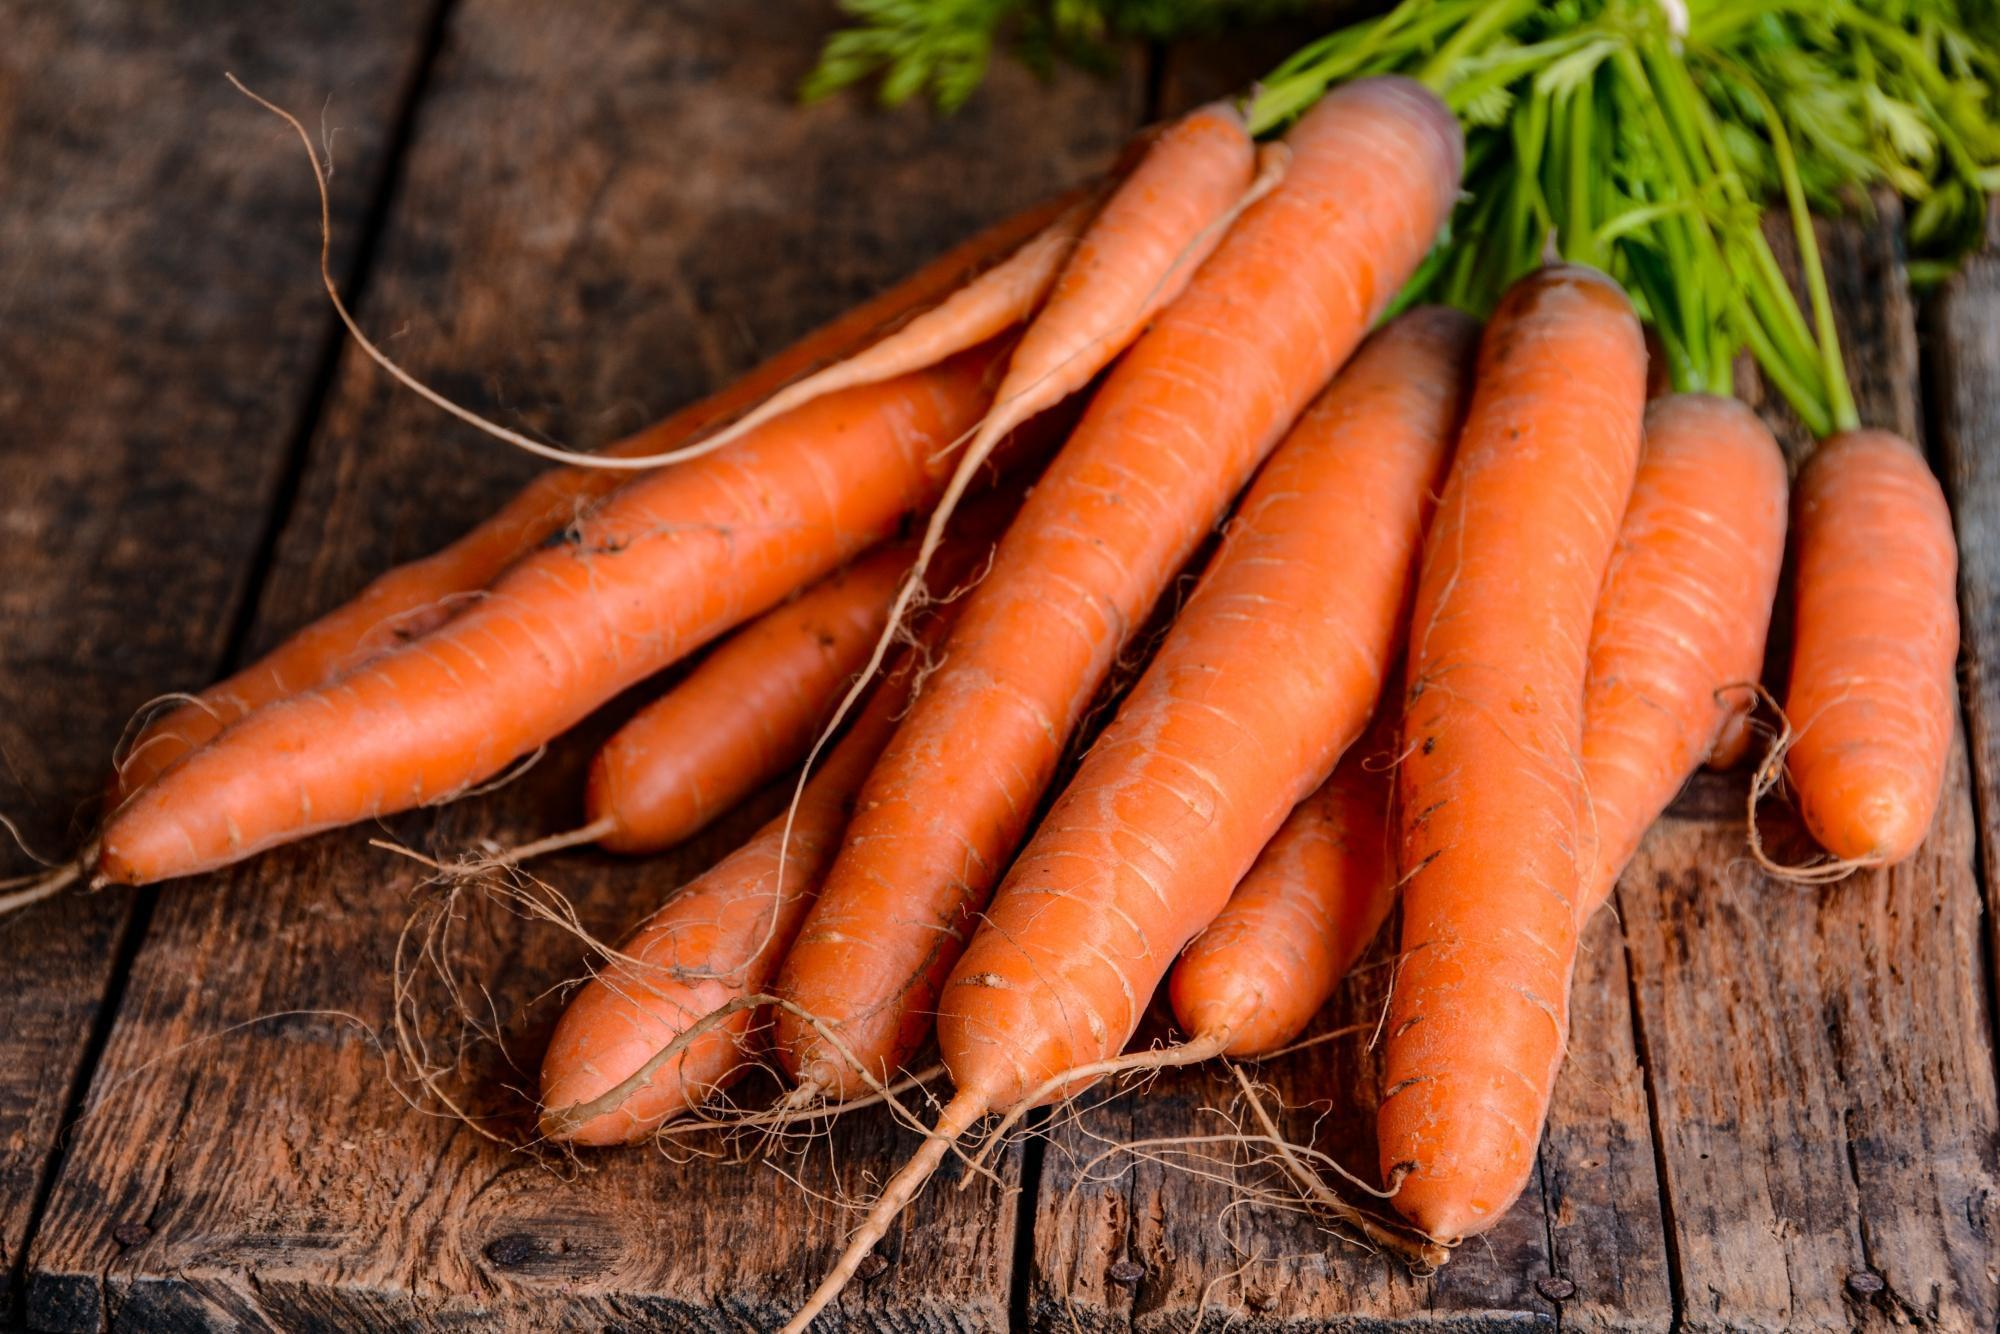carrot: (76, 0, 1592, 1268), (1793, 350, 1987, 972)
